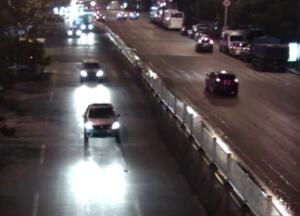bus: (159, 8, 185, 31)
car: (78, 102, 123, 144), (201, 68, 240, 95), (76, 58, 105, 84), (219, 29, 247, 50), (231, 38, 253, 60), (193, 31, 213, 53), (65, 24, 82, 38), (78, 20, 94, 32), (116, 9, 128, 20), (129, 8, 140, 19)
